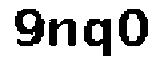0: (117, 4, 151, 50)
9: (13, 6, 43, 48)
n: (47, 16, 79, 50)
q: (81, 13, 113, 60)
